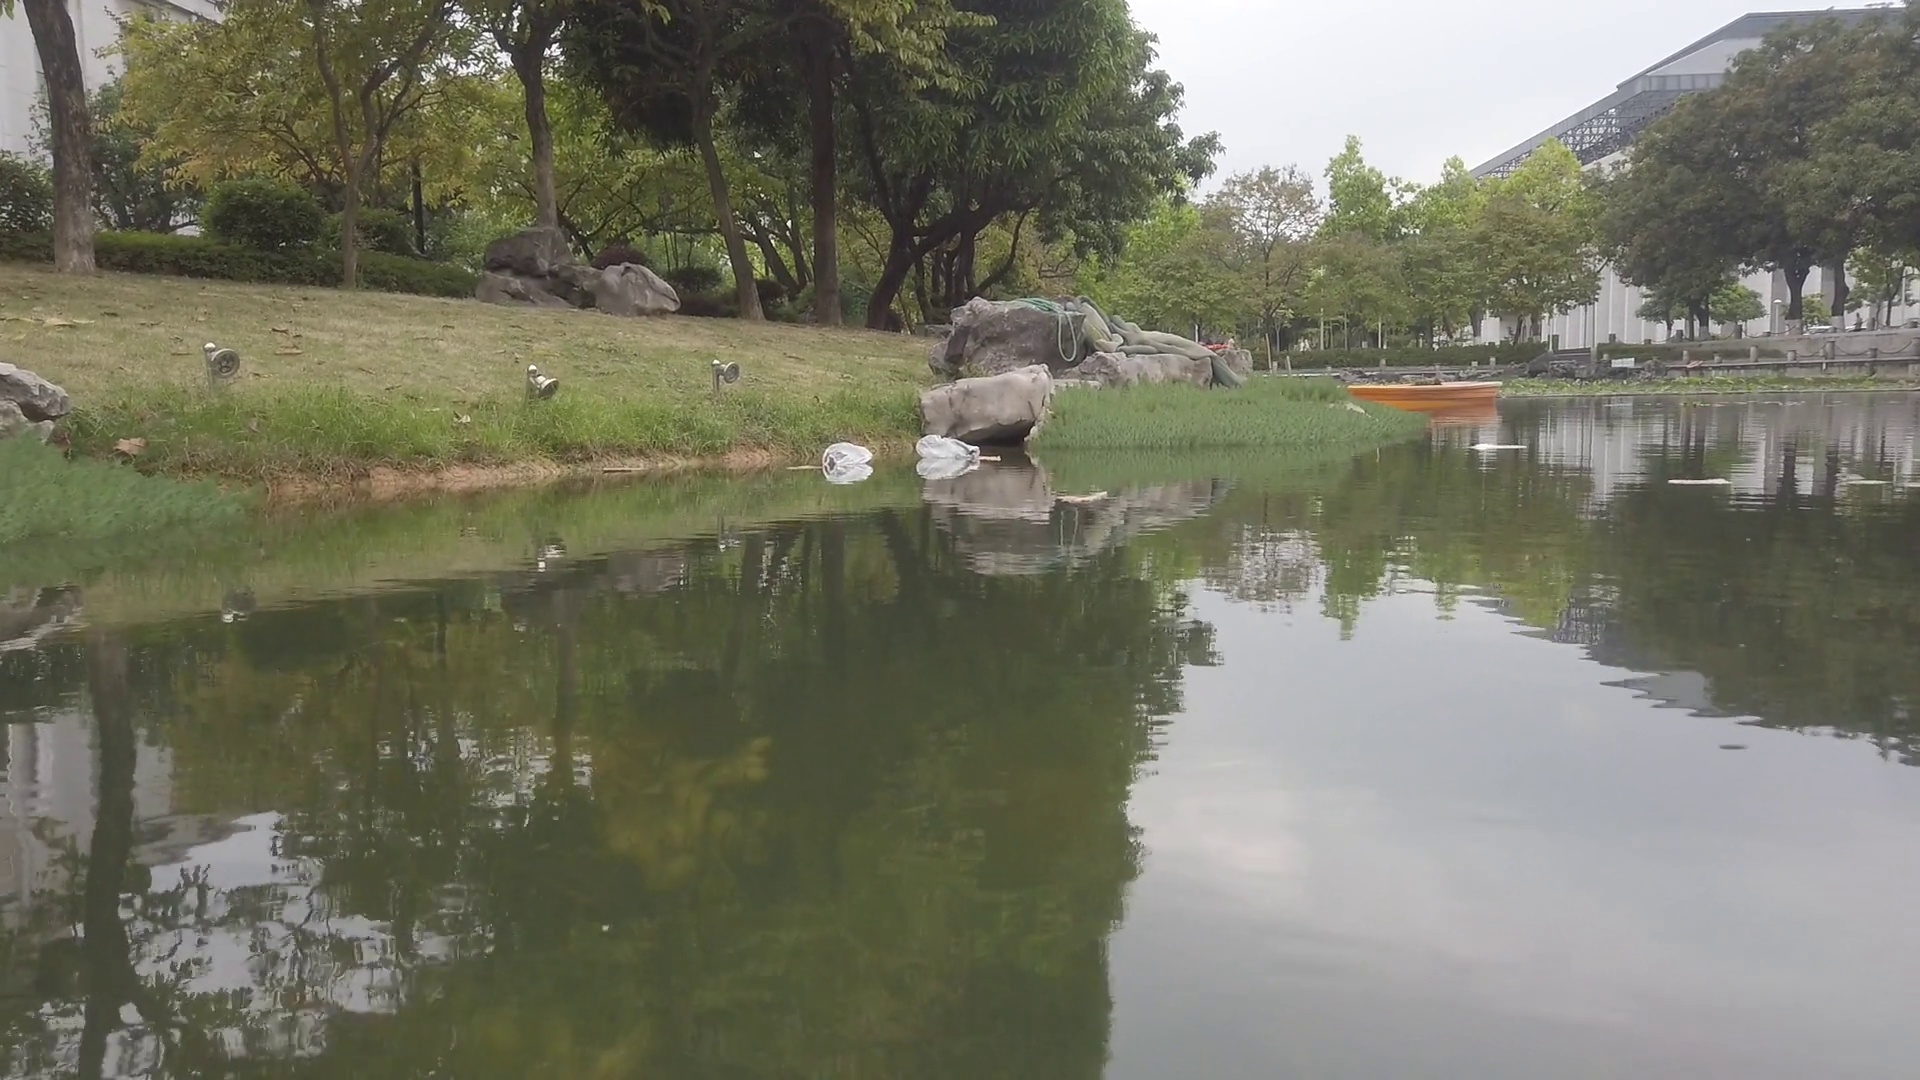paper: (1669, 472, 1727, 491), (1472, 439, 1526, 454), (1062, 492, 1105, 504), (605, 464, 647, 476), (972, 454, 1000, 465), (791, 460, 818, 471)
plastic: (914, 435, 982, 462), (823, 440, 872, 465)
